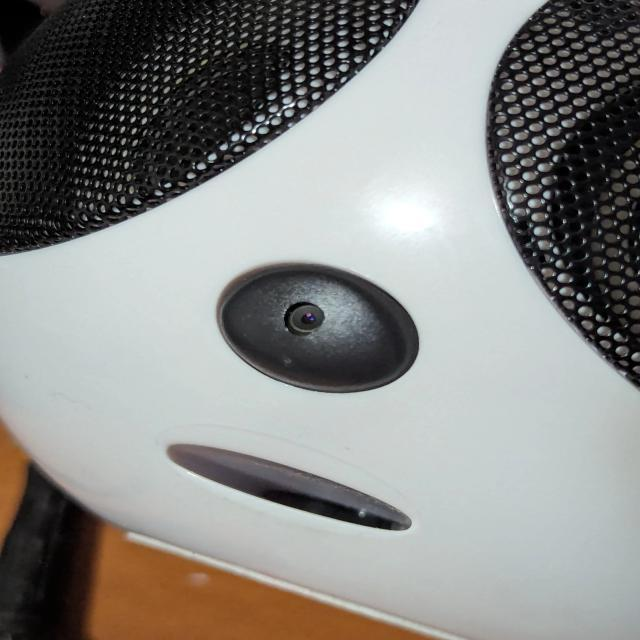hidden camera: (296, 311, 321, 326)
